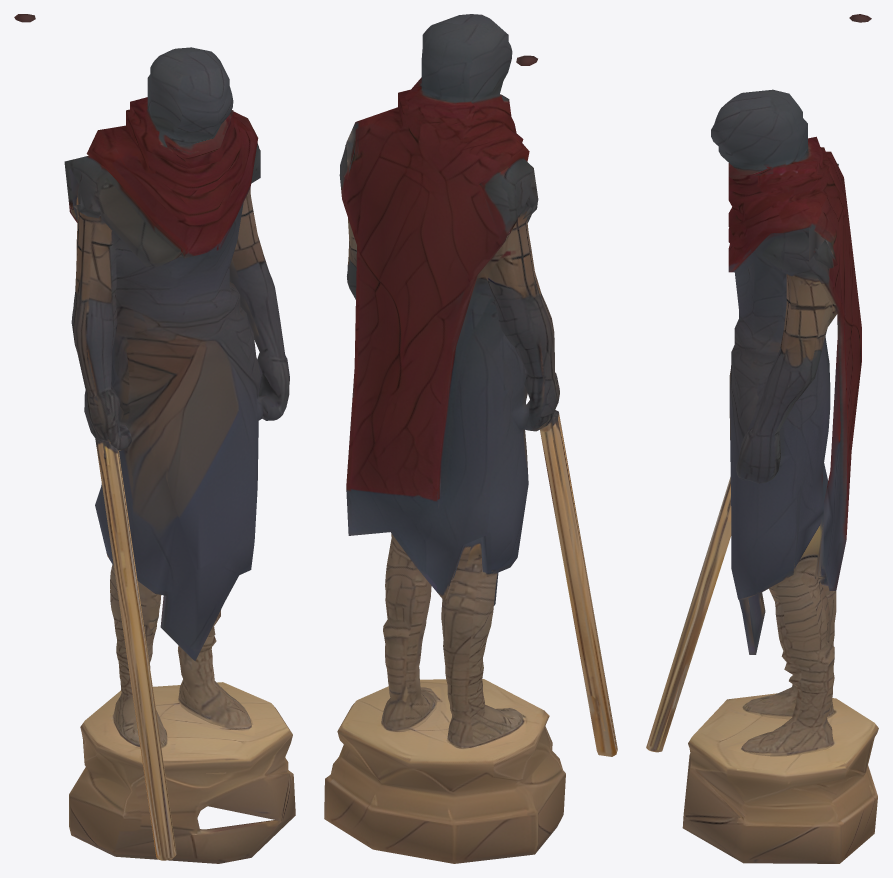
Rendered from shepherd-alt.glb.
3 views of the same model, side by side, from view 1: azimuth 30°, elevation 25°; view 2: azimuth 150°, elevation 25°; view 3: azimuth 270°, elevation 25° (orthographic). The views are drawn at different scales.
Parts seen in each view (by area): view 1: texture_pbr_v128_0; view 2: texture_pbr_v128_0; view 3: texture_pbr_v128_0.
Part boxes in pixels (x1=…): texture_pbr_v128_0: x1=14, y1=14, x2=295, y2=863; texture_pbr_v128_0: x1=324, y1=14, x2=617, y2=863; texture_pbr_v128_0: x1=646, y1=14, x2=878, y2=863.
Bounding box in the file's own units: 0.7246 × 2.53 × 0.709.
1 material, 1 textured.
